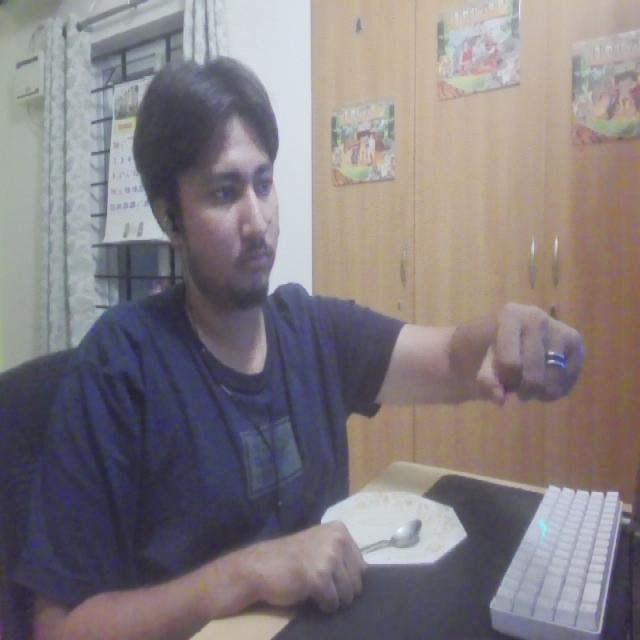yes: (470, 284, 592, 429)
